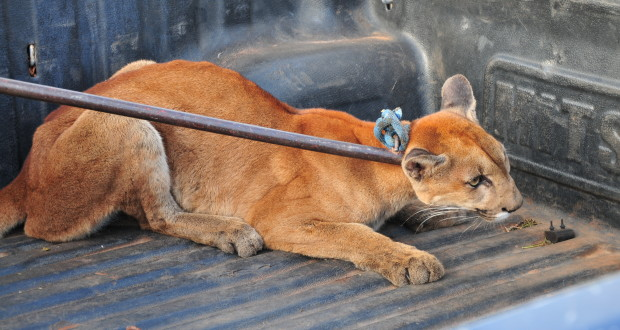OncaParda: (23, 54, 530, 290)
